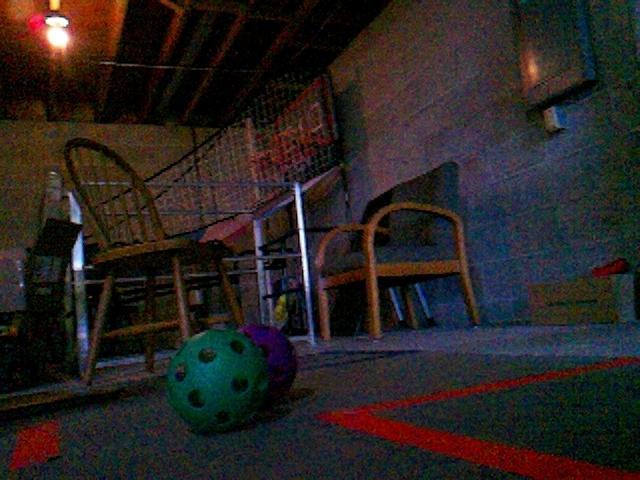Green: (163, 327, 269, 432)
Purple: (239, 326, 299, 409)
